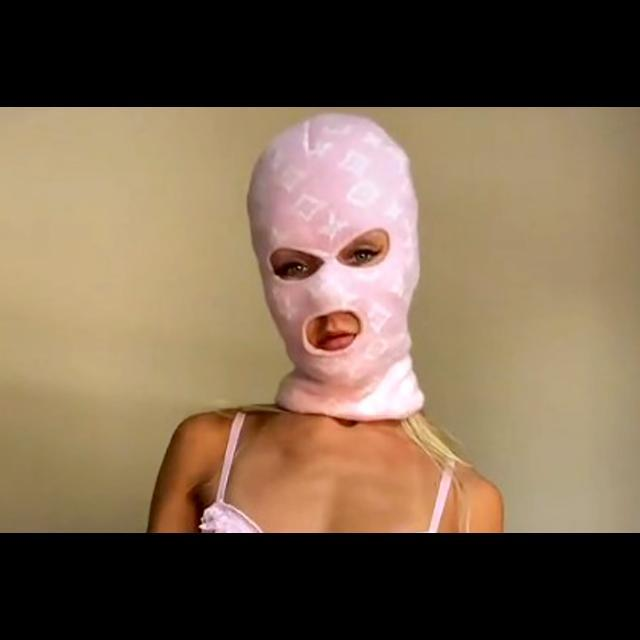criminal: (146, 113, 506, 532)
